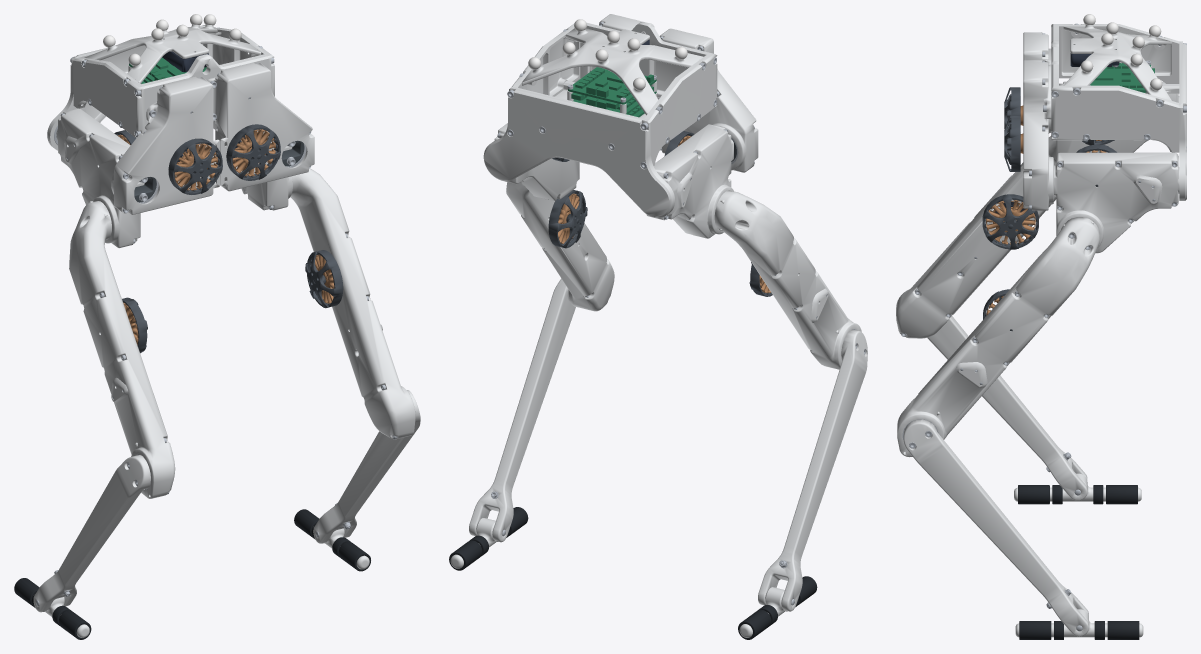
File: Bolt_LOD1.fbx
3 views of the same model, side by side, from view 1: azimuth 30°, elevation 25°; view 2: azimuth 150°, elevation 25°; view 3: azimuth 270°, elevation 25° (orthographic). The views are drawn at different scales.
Visible parts, largest first — view 1: MM_Bolt_overview_left_thigh, MM_Bolt_overview_right_thigh, MM_Bolt_overview_body_frame, MM_Bolt_overview_left_hip_aa, MM_Bolt_overview_right_hip_aa, MM_Bolt_overview_left_hip_fe, MM_Bolt_overview_left_shin, MM_Bolt_overview_right_shin, MM_Bolt_overview_right_foot, MM_Bolt_overview_left_foot, MM_Bolt_overview_right_hip_fe, MM_Bolt_overview_electronics; view 2: MM_Bolt_overview_body_frame, MM_Bolt_overview_left_thigh, MM_Bolt_overview_left_shin, MM_Bolt_overview_right_thigh, MM_Bolt_overview_right_shin, MM_Bolt_overview_left_hip_fe, MM_Bolt_overview_left_hip_aa, MM_Bolt_overview_electronics, MM_Bolt_overview_right_hip_fe, MM_Bolt_overview_left_foot, MM_Bolt_overview_right_foot; view 3: MM_Bolt_overview_body_frame, MM_Bolt_overview_right_thigh, MM_Bolt_overview_left_thigh, MM_Bolt_overview_right_hip_fe, MM_Bolt_overview_right_shin, MM_Bolt_overview_right_hip_aa, MM_Bolt_overview_left_shin, MM_Bolt_overview_left_foot, MM_Bolt_overview_right_foot, MM_Bolt_overview_left_hip_aa, MM_Bolt_overview_electronics, MM_Bolt_overview_left_hip_fe.
Part boxes in pixels (x1=…): MM_Bolt_overview_left_thigh: x1=69, y1=201, x2=175, y2=498; MM_Bolt_overview_right_thigh: x1=290, y1=168, x2=415, y2=439; MM_Bolt_overview_body_frame: x1=47, y1=14, x2=274, y2=150; MM_Bolt_overview_left_hip_aa: x1=111, y1=76, x2=222, y2=214; MM_Bolt_overview_right_hip_aa: x1=207, y1=62, x2=314, y2=191; MM_Bolt_overview_left_hip_fe: x1=56, y1=108, x2=144, y2=248; MM_Bolt_overview_left_shin: x1=33, y1=455, x2=150, y2=612; MM_Bolt_overview_right_shin: x1=313, y1=390, x2=420, y2=543; MM_Bolt_overview_right_foot: x1=294, y1=509, x2=370, y2=571; MM_Bolt_overview_left_foot: x1=14, y1=578, x2=91, y2=639; MM_Bolt_overview_right_hip_fe: x1=213, y1=122, x2=292, y2=210; MM_Bolt_overview_electronics: x1=128, y1=39, x2=208, y2=83; MM_Bolt_overview_body_frame: x1=483, y1=19, x2=717, y2=218; MM_Bolt_overview_left_thigh: x1=714, y1=190, x2=861, y2=369; MM_Bolt_overview_left_shin: x1=758, y1=329, x2=867, y2=611; MM_Bolt_overview_right_thigh: x1=506, y1=182, x2=614, y2=311; MM_Bolt_overview_right_shin: x1=469, y1=278, x2=575, y2=542; MM_Bolt_overview_left_hip_fe: x1=646, y1=124, x2=733, y2=238; MM_Bolt_overview_left_hip_aa: x1=657, y1=28, x2=758, y2=172; MM_Bolt_overview_electronics: x1=567, y1=40, x2=657, y2=117; MM_Bolt_overview_right_hip_fe: x1=494, y1=89, x2=579, y2=200; MM_Bolt_overview_left_foot: x1=738, y1=576, x2=817, y2=639; MM_Bolt_overview_right_foot: x1=449, y1=507, x2=528, y2=570; MM_Bolt_overview_body_frame: x1=1051, y1=14, x2=1186, y2=200; MM_Bolt_overview_right_thigh: x1=897, y1=217, x2=1099, y2=457; MM_Bolt_overview_left_thigh: x1=896, y1=136, x2=1056, y2=338; MM_Bolt_overview_right_hip_fe: x1=1054, y1=144, x2=1179, y2=253; MM_Bolt_overview_right_shin: x1=903, y1=419, x2=1088, y2=636; MM_Bolt_overview_right_hip_aa: x1=1004, y1=60, x2=1053, y2=210; MM_Bolt_overview_left_shin: x1=927, y1=316, x2=1087, y2=500; MM_Bolt_overview_left_foot: x1=1014, y1=473, x2=1141, y2=504; MM_Bolt_overview_right_foot: x1=1015, y1=609, x2=1143, y2=639; MM_Bolt_overview_left_hip_aa: x1=1004, y1=32, x2=1051, y2=133; MM_Bolt_overview_electronics: x1=1070, y1=39, x2=1154, y2=141; MM_Bolt_overview_left_hip_fe: x1=1056, y1=81, x2=1179, y2=154.
Bounding box in the file's own units: 0.2788 × 0.4668 × 0.2277.
